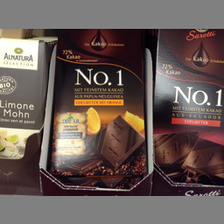chocolate: (52, 30, 147, 186), (153, 30, 224, 186), (1, 37, 47, 158)
